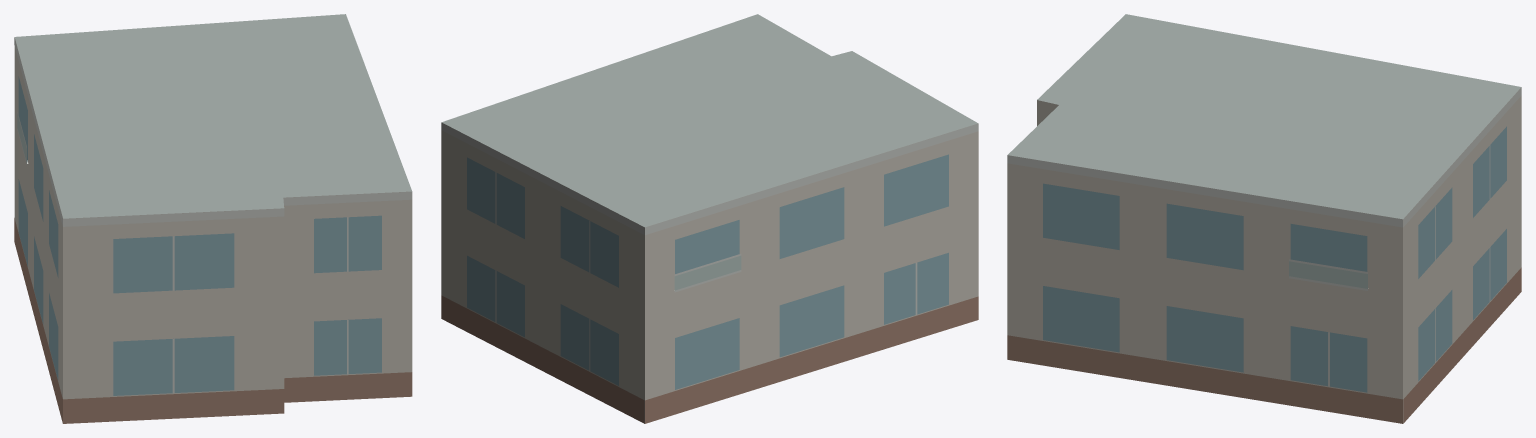
The model's file is survey-upis-32693484.glb.
3 renders of one model, left to right at view 1: azimuth 30°, elevation 25°; view 2: azimuth 150°, elevation 25°; view 3: azimuth 270°, elevation 25°, orthographic. The views are drawn at different scales.
Parts seen in each view (by area): view 1: survey-upis-32693484.tmp; view 2: survey-upis-32693484.tmp; view 3: survey-upis-32693484.tmp.
Part boxes in pixels (x1,y1,x2,y2): survey-upis-32693484.tmp: (14,14,412,423); survey-upis-32693484.tmp: (441,14,978,423); survey-upis-32693484.tmp: (1007,14,1521,423).
Size of the model in its own units: 13.14 by 6.1 by 13.91.
